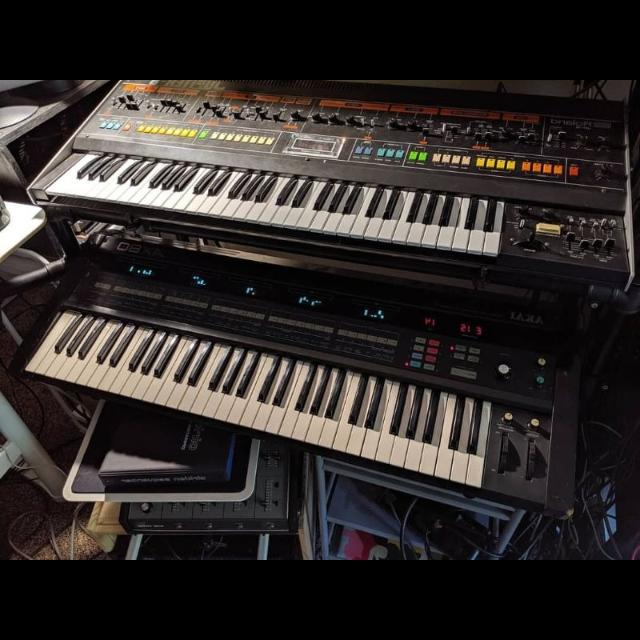Electronic-Keyboard: (35, 287, 601, 493), (34, 96, 620, 266)
